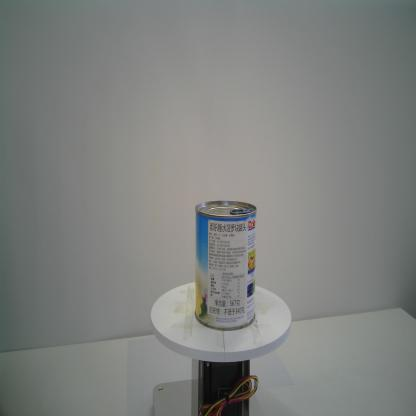Canned Food: (194, 200, 258, 331)
